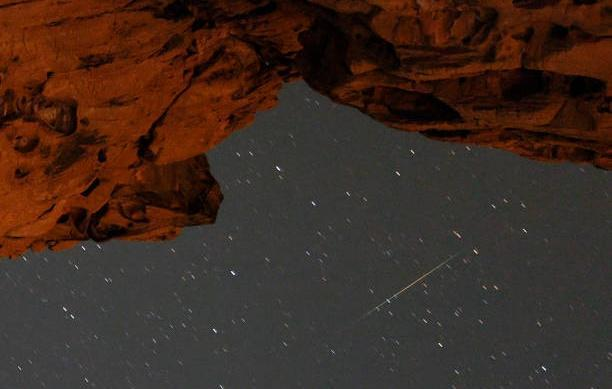meteorite: (349, 244, 474, 315)
